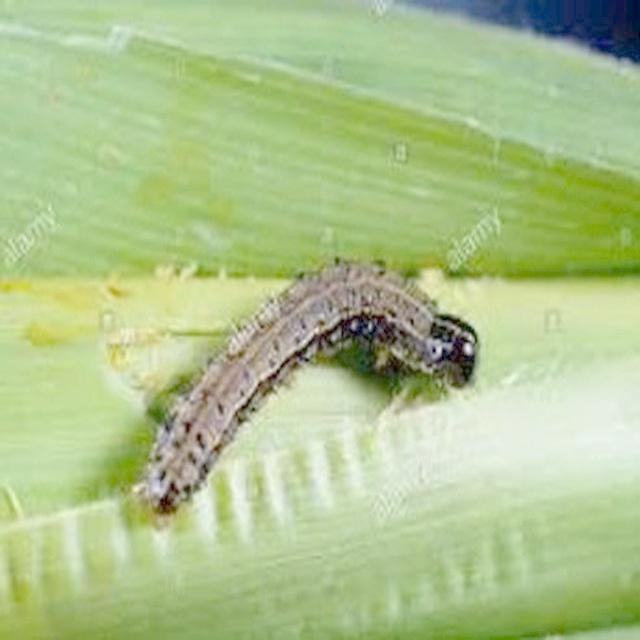gusano_cogollero: (138, 255, 484, 519)
